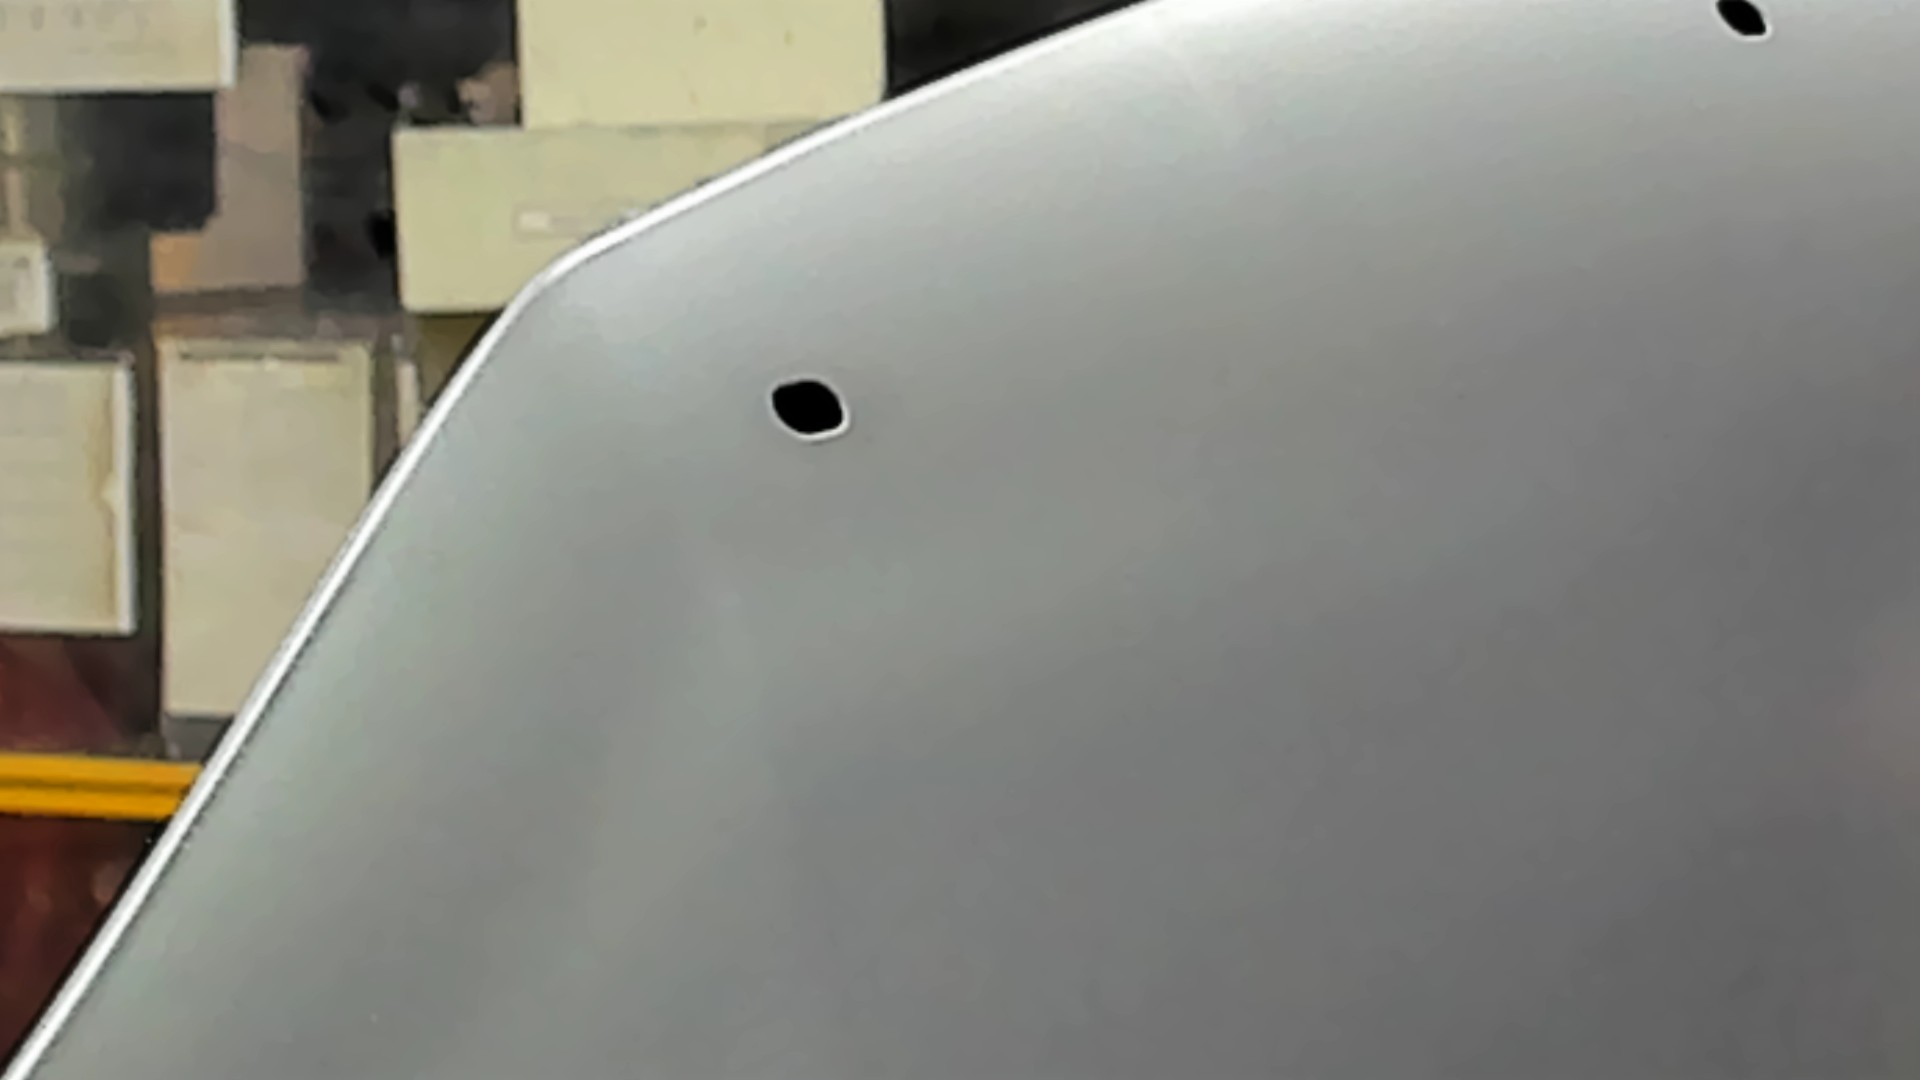amorfo: (764, 372, 860, 446), (1702, 1, 1778, 46)
capo: (909, 116, 1920, 1080)
